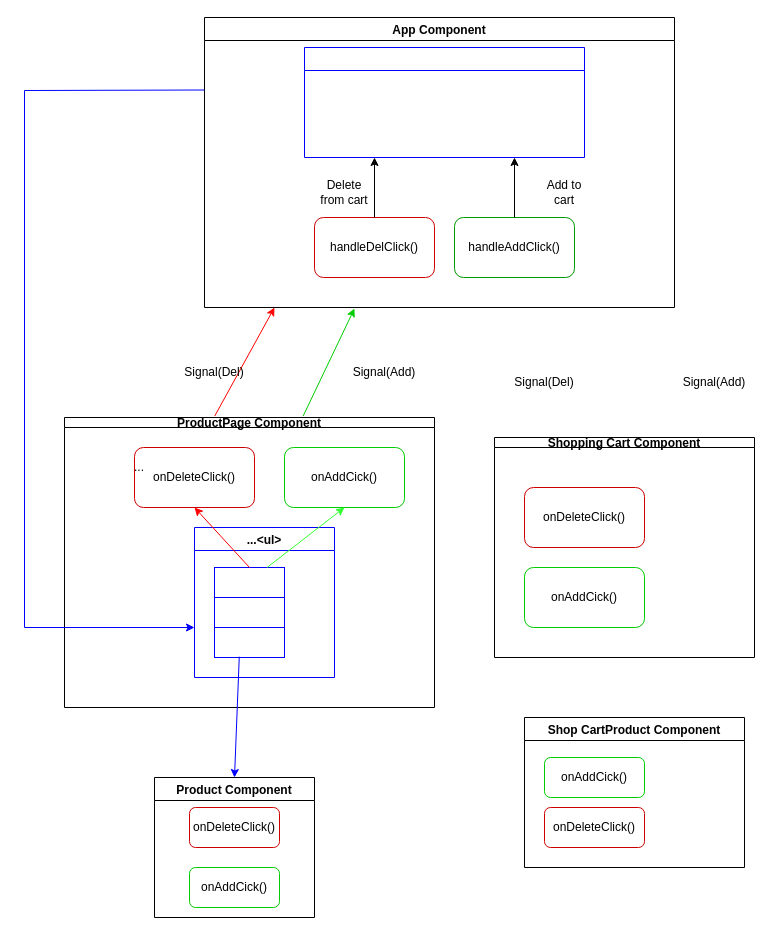
Image size: 772x935. Some labels were removed from this diagram. Here are the shapes that lost their labels. From the top down, the centre of each, then its label:
(x=444, y=102): Cart
(x=249, y=582): item 1
(x=249, y=612): item 2
(x=249, y=642): item 3
